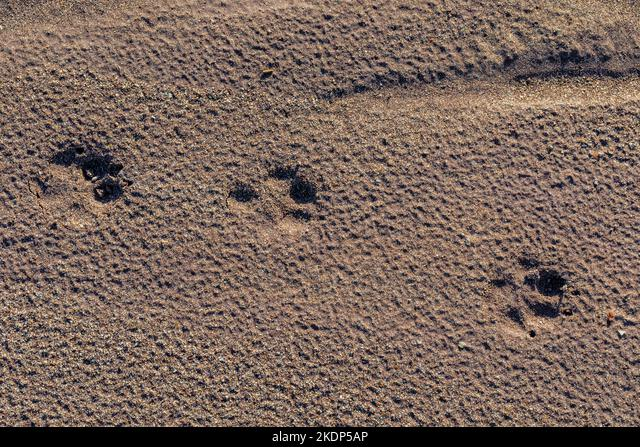coyote: (31, 140, 121, 227), (223, 164, 319, 236)
